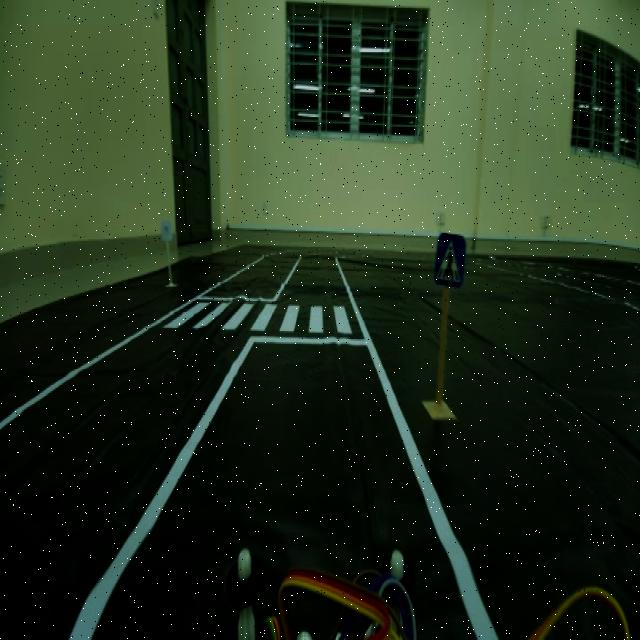crosswalk: (428, 230, 474, 304)
